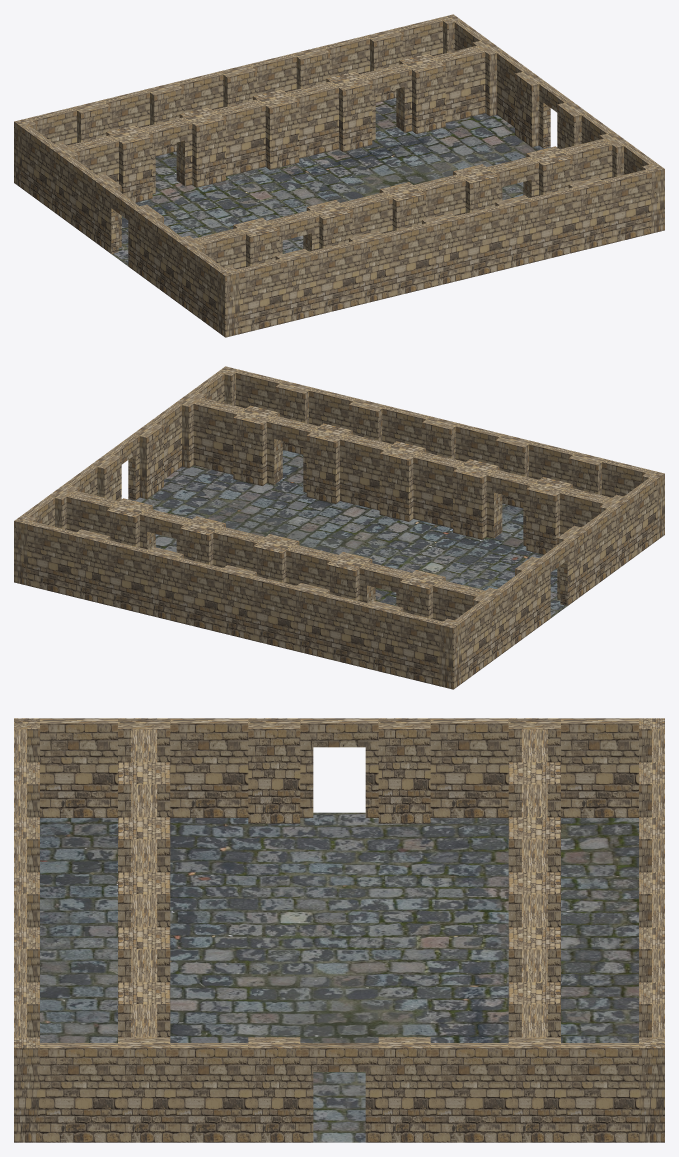
File: 1_corWithSideWalls.fbx
The picture shows the model from 3 angles, top to bottom: view 1: azimuth 30°, elevation 25°; view 2: azimuth 150°, elevation 25°; view 3: azimuth 270°, elevation 25°; orthographic projection. The views are drawn at different scales.
Parts seen in each view (by area): view 1: Cube_1, Plane; view 2: Cube_1, Plane; view 3: Cube_1, Plane.
Part boxes in pixels (x1,y1,x2,y2): Cube_1: (14,14,664,337); Plane: (111,98,550,265); Cube_1: (14,366,664,689); Plane: (128,450,567,617); Cube_1: (14,718,664,1142); Plane: (40,812,638,1142).
Size of the model in its own units: 60 by 8 by 50.
Materials: 2 (2 with a texture image).
